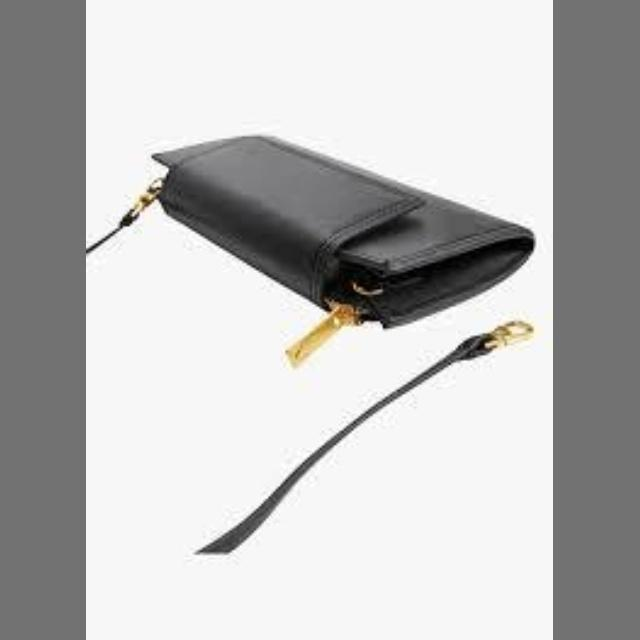Wallet: (152, 119, 534, 328)
